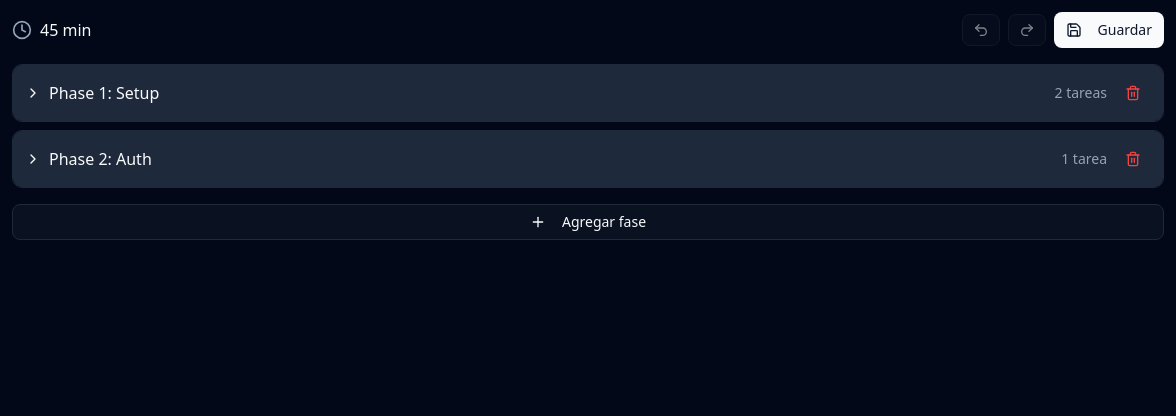
PlanEditor › Task editing › should allow deleting a task
This screenshot has width=1176, height=416.
Click the button "Phase 1: Setup" at (104, 93), box [25,81,1046,105]
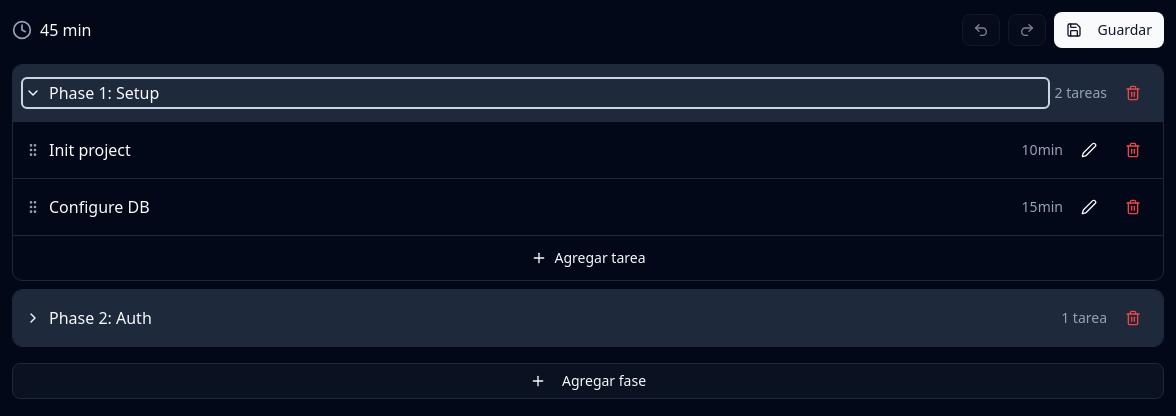
Click the button with test id "delete-task-t1" at (1133, 150), box [1115,134,1151,166]
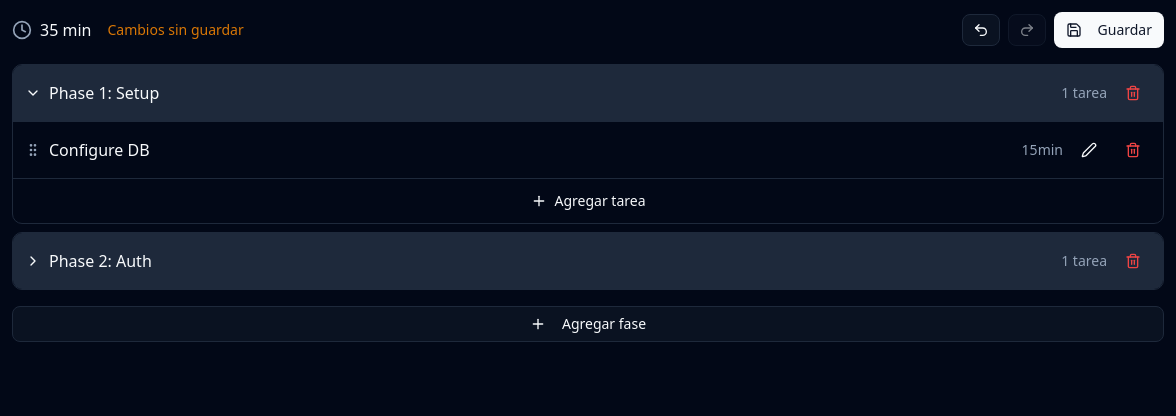
Expected: the text "Init project" is gone
